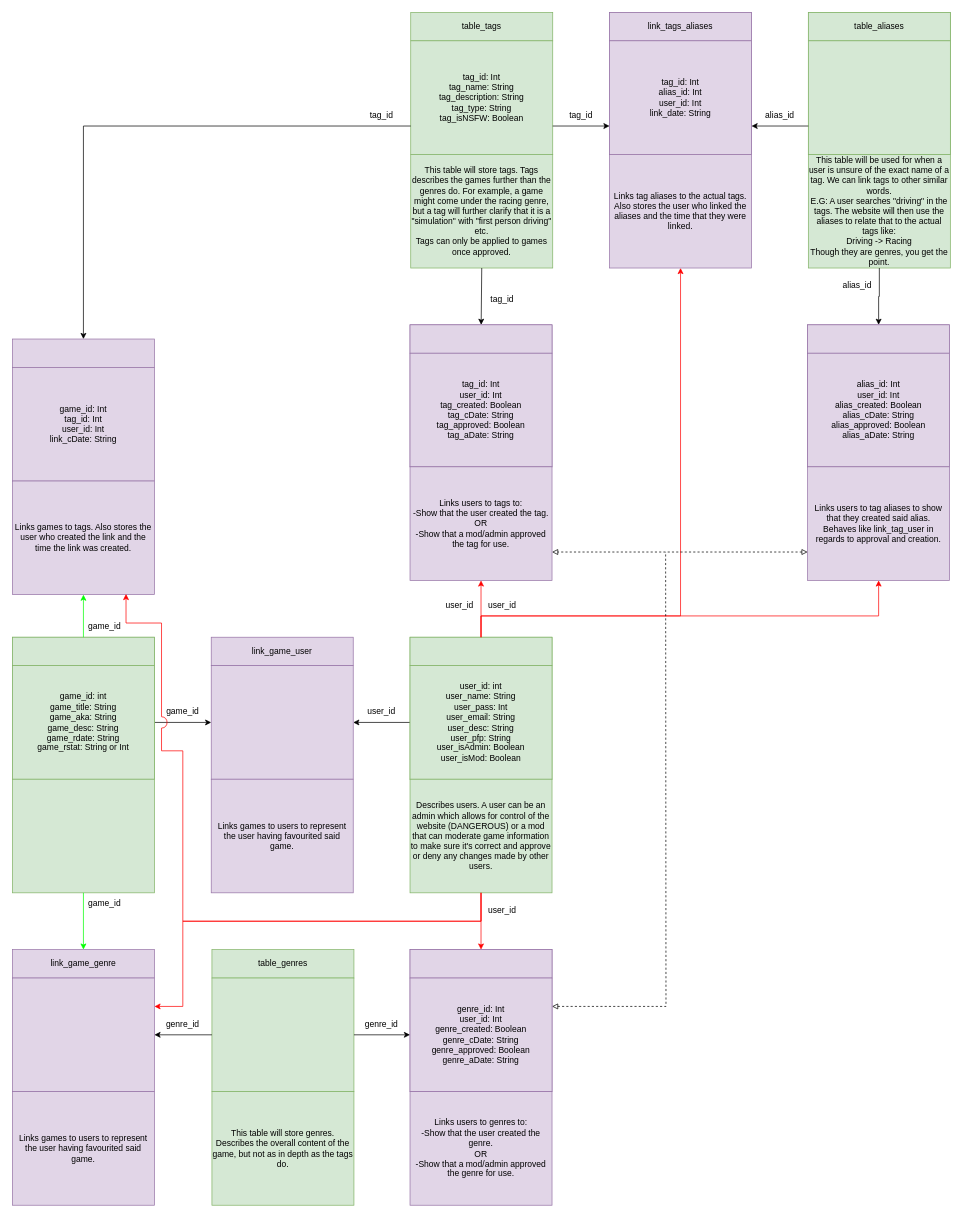
Some shapes in this 963 by 1218 pixel diagram are drawn without their labels. Here are the shapes that lost their labels. From the top down, the centre of each, then its label:
the point at 879,97: alias_id: Int alias_name: String
the point at 83,352: link_game_tag
the point at 480,338: link_tag_user
the point at 878,338: link_alias_user
the point at 83,651: table_games
the point at 480,651: table_users
the point at 282,722: game_id: Int user_id: Int fave_datetime: String
the point at 83,836: Describes the games. Who would've guessed?
the point at 480,963: link_genre_user
the point at 83,1034: game_id: Int genre_id: Int user_id: Int link_cDate: String
the point at 282,1034: genre_id: Int genre_name: String genre_description: String genre_isNSFW: Boolean
